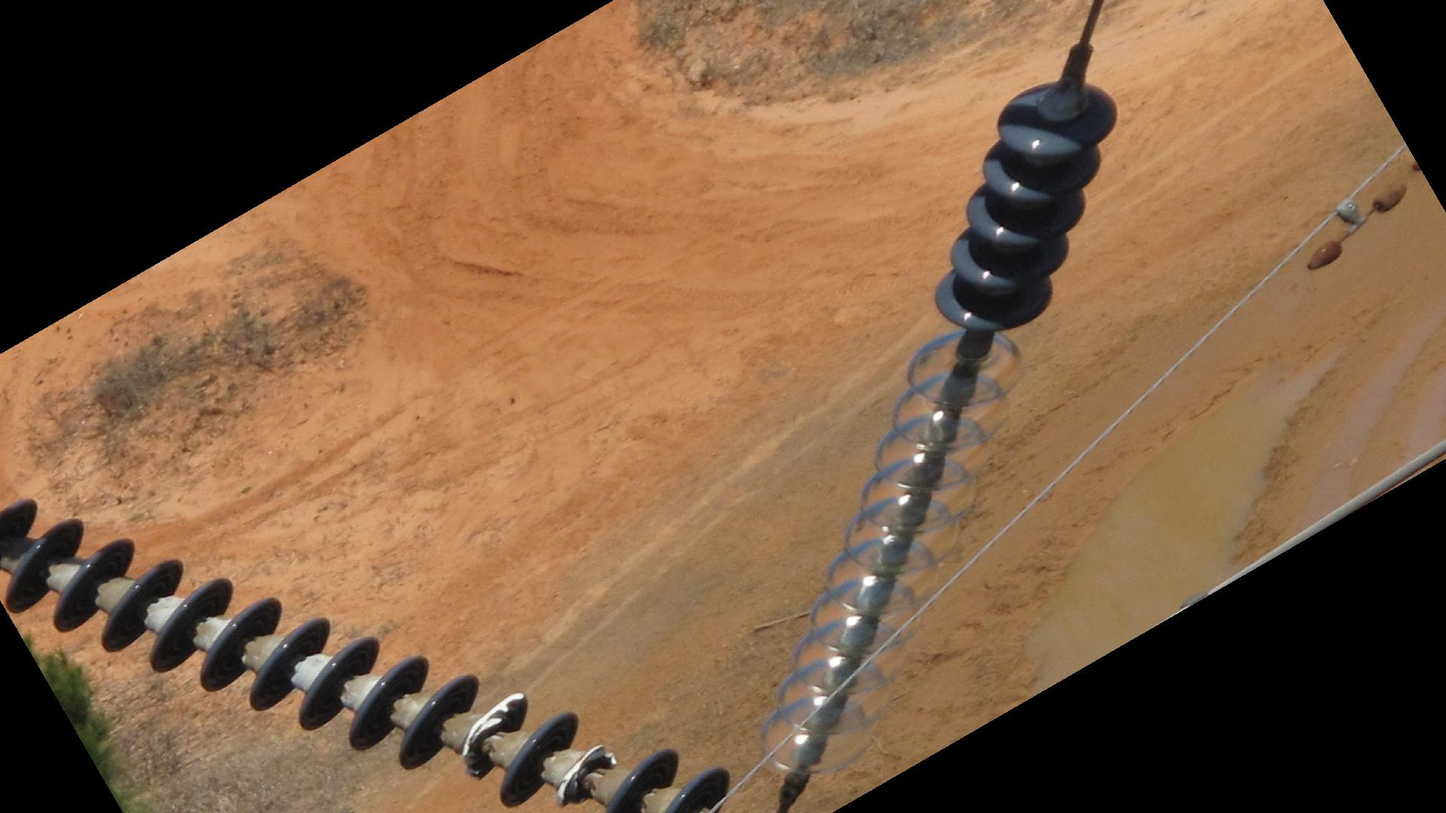insulator: (1, 492, 739, 813), (928, 81, 1124, 340)
insulator_breakage: (461, 690, 527, 782), (553, 741, 621, 808)
